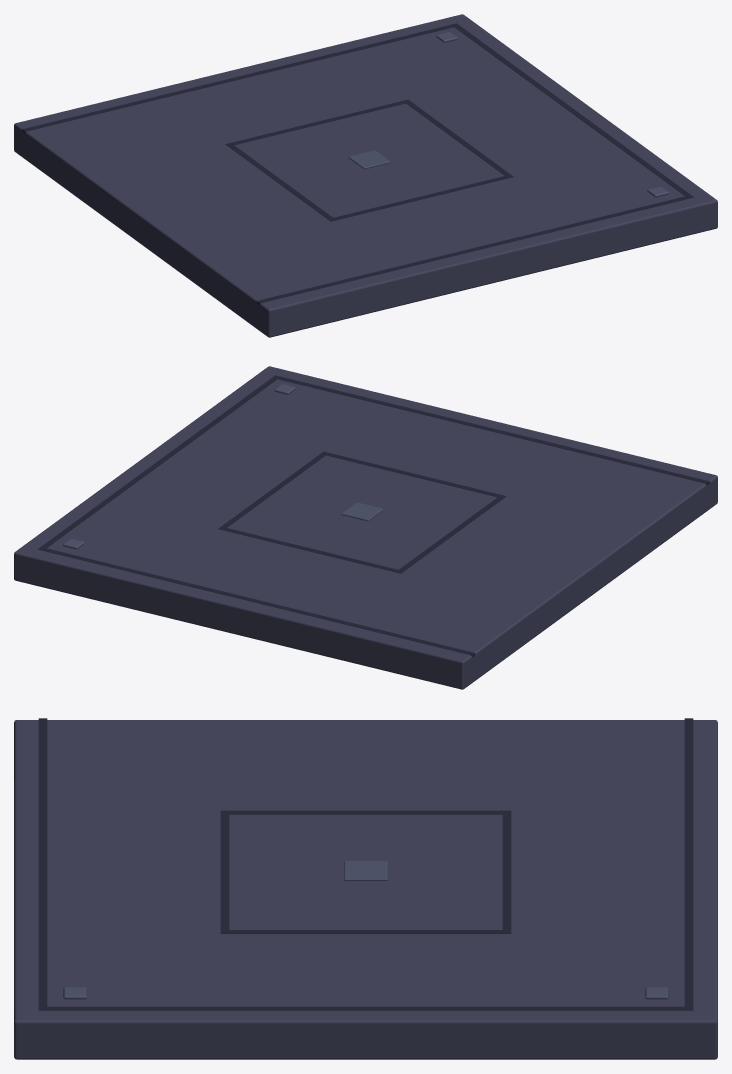
Rendered from floor.plate.ESN+sub.glb.
The picture shows the model from 3 angles, top to bottom: view 1: azimuth 30°, elevation 25°; view 2: azimuth 150°, elevation 25°; view 3: azimuth 270°, elevation 25°; orthographic projection. The views are drawn at different scales.
Parts seen in each view (by area): view 1: floor.plate.ESN+sub; view 2: floor.plate.ESN+sub; view 3: floor.plate.ESN+sub.
Boxes of the visible parts, left/top/right/bottom form: floor.plate.ESN+sub: left=14, top=14, right=717, bottom=337; floor.plate.ESN+sub: left=14, top=366, right=717, bottom=689; floor.plate.ESN+sub: left=14, top=718, right=717, bottom=1059.
Bounding box in the file's own units: 0.984 × 0.066 × 0.968.
